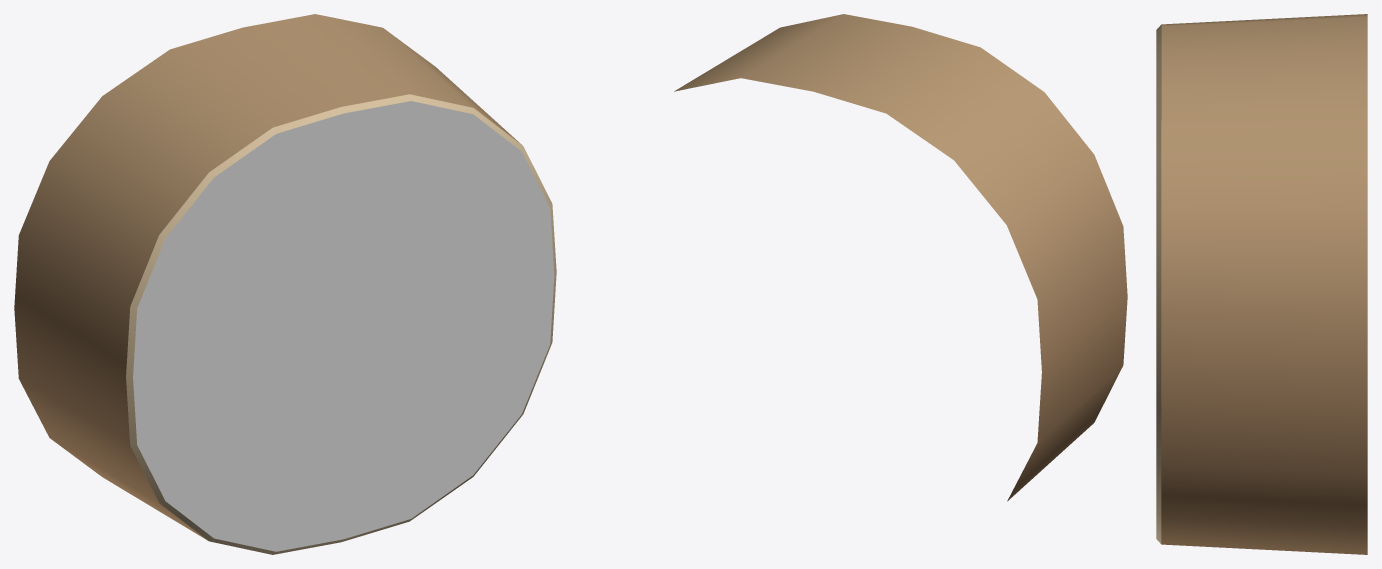
The model's file is DescendantsTwoDisneyStoreSign.glb.
The picture shows the model from 3 angles, left to right: view 1: azimuth 30°, elevation 25°; view 2: azimuth 150°, elevation 25°; view 3: azimuth 270°, elevation 25°; orthographic projection. The views are drawn at different scales.
Visible parts, largest first — view 1: DescendantsTwoDisneyStoreSign; view 2: DescendantsTwoDisneyStoreSign; view 3: DescendantsTwoDisneyStoreSign.
Part boxes in pixels (left/top/right/bottom): DescendantsTwoDisneyStoreSign: left=14, top=14, right=556, bottom=554; DescendantsTwoDisneyStoreSign: left=674, top=14, right=1127, bottom=501; DescendantsTwoDisneyStoreSign: left=1156, top=14, right=1367, bottom=554.
Size of the model in its own units: 2.2 by 2.07 by 0.8421.
